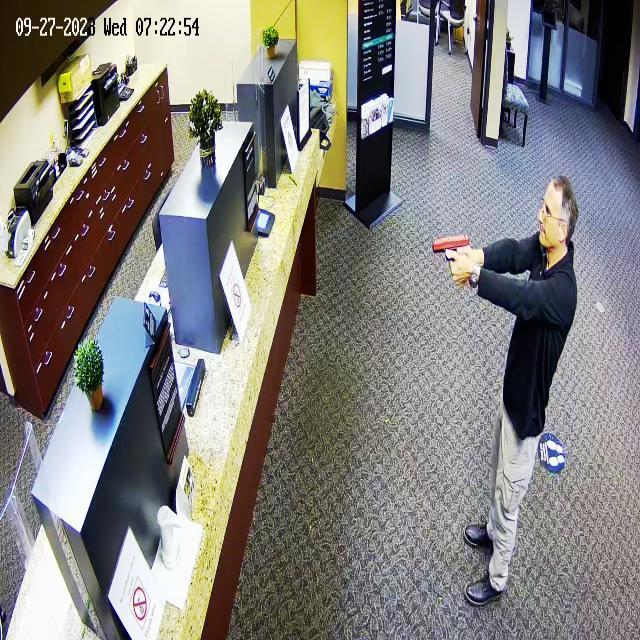Gun: (428, 234, 482, 282)
